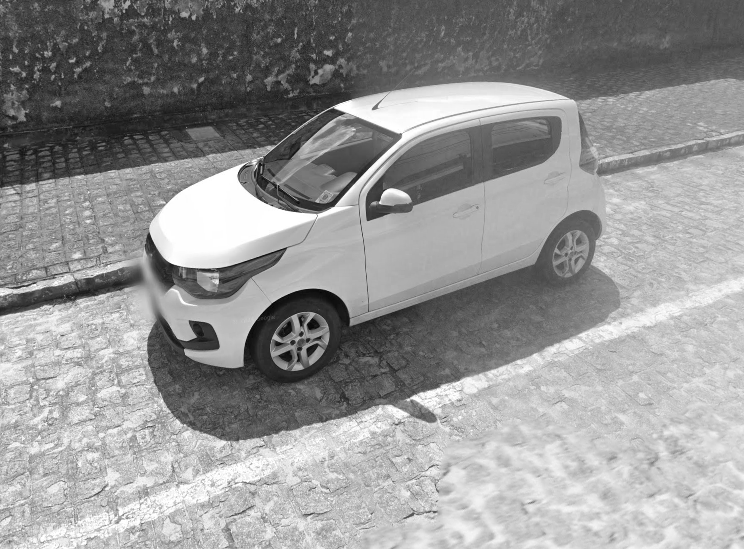car: (137, 66, 609, 387)
